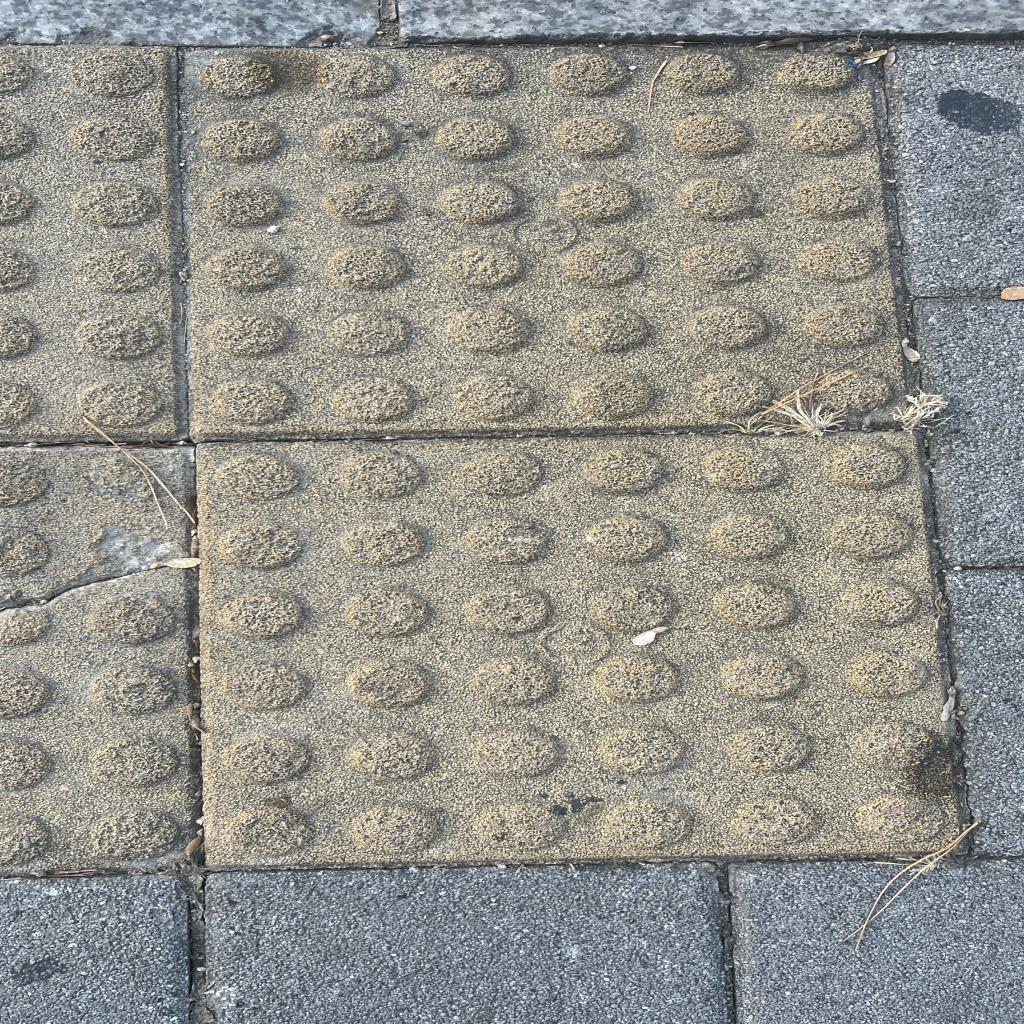Stop block normal: (201, 435, 957, 863)
